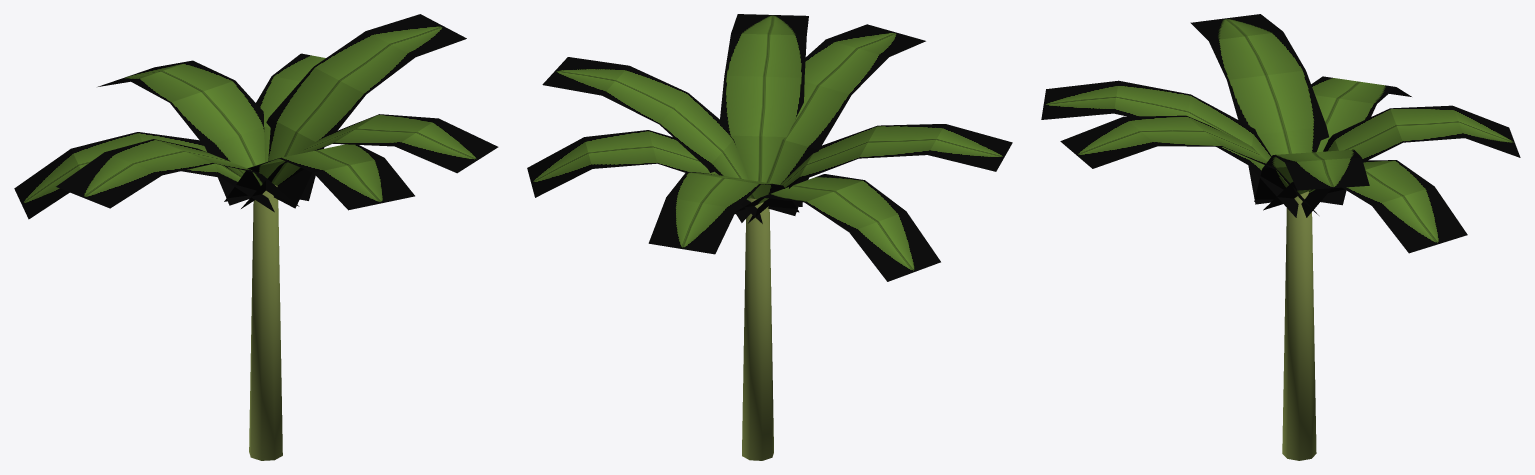
Rendered from banana.glb.
3 views of the same model, side by side, from view 1: azimuth 30°, elevation 25°; view 2: azimuth 150°, elevation 25°; view 3: azimuth 270°, elevation 25° (orthographic). The views are drawn at different scales.
Parts seen in each view (by area): view 1: Banana; view 2: Banana; view 3: Banana.
Boxes of the visible parts, box(x1,y1,x2,y2) form: Banana: box(14, 14, 498, 460); Banana: box(527, 14, 1012, 460); Banana: box(1041, 14, 1520, 460).
Bounding box in the file's own units: 3.98 × 3.24 × 3.92.
Materials: 2 (1 with a texture image).
